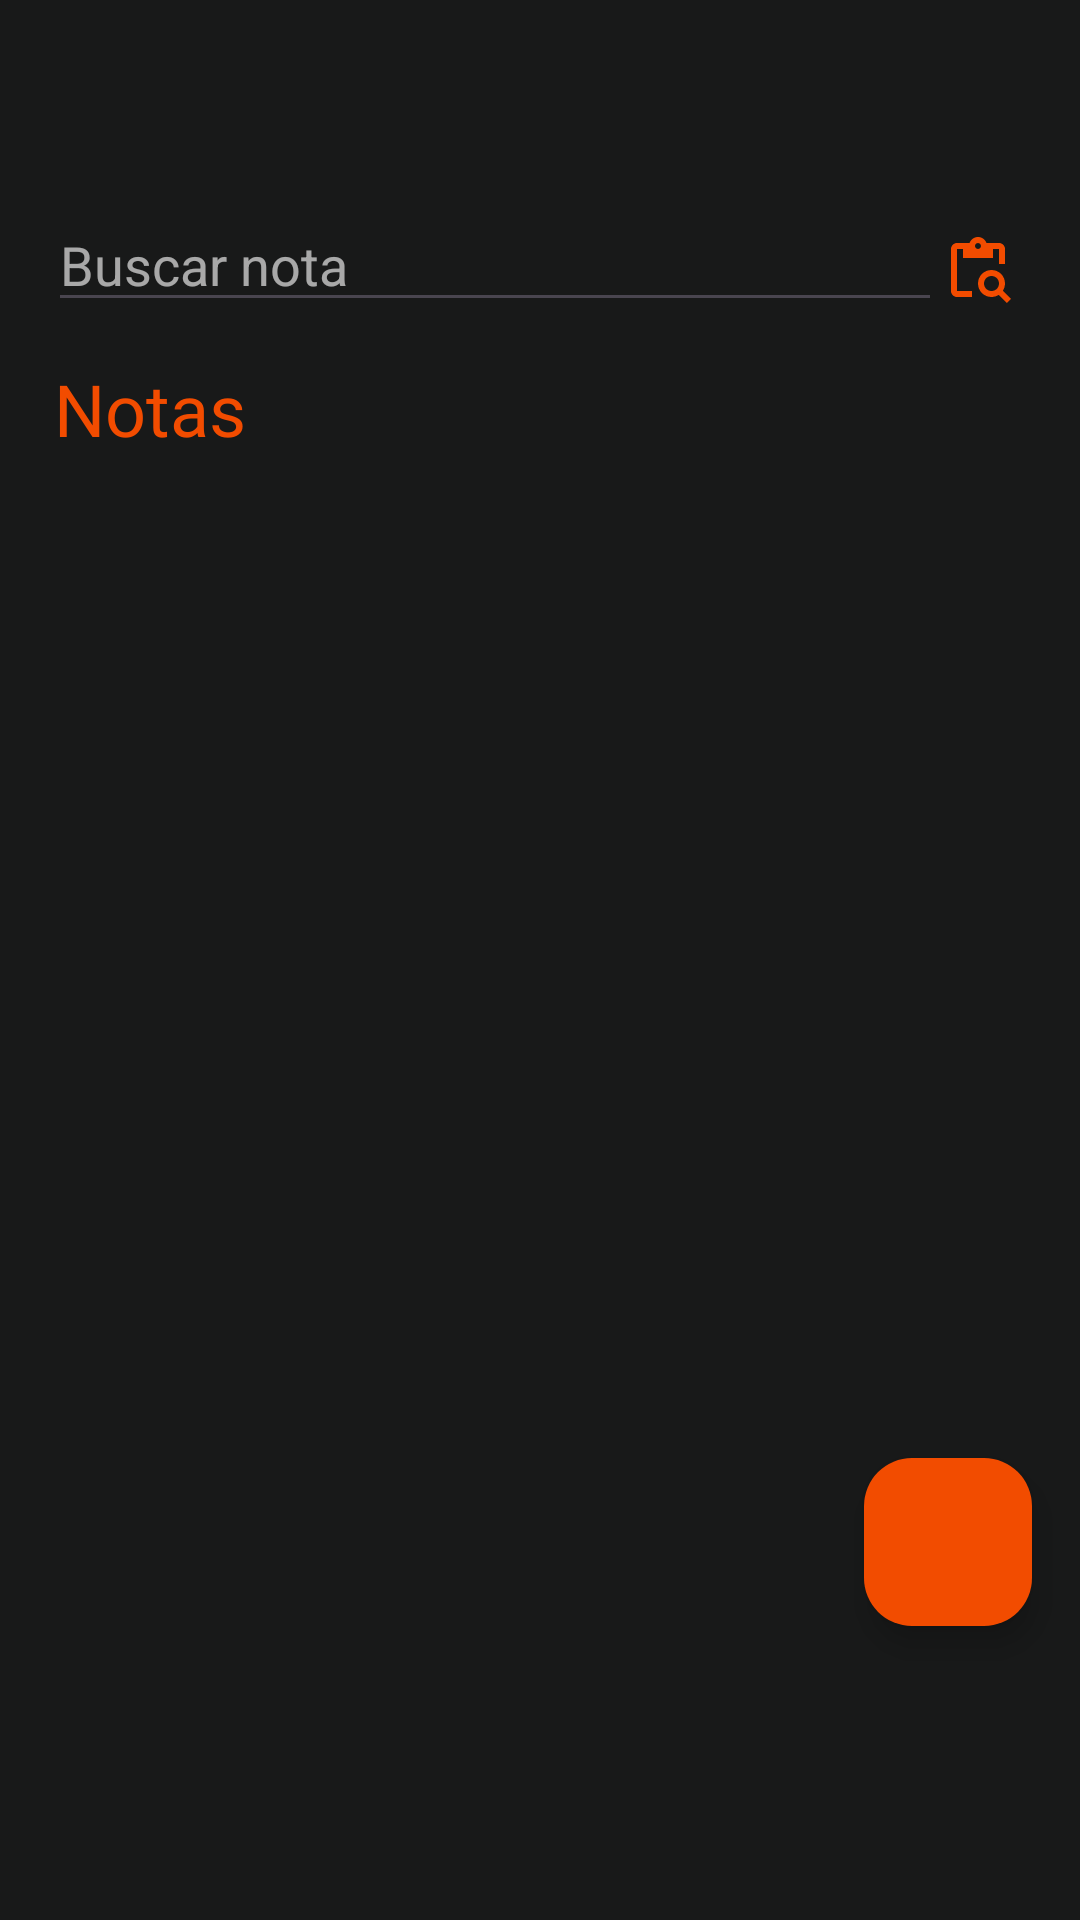

Icons on this 1080 x 1920 Android screen, each with the point to tap as [x,y]:
content paste search: [981,270]
